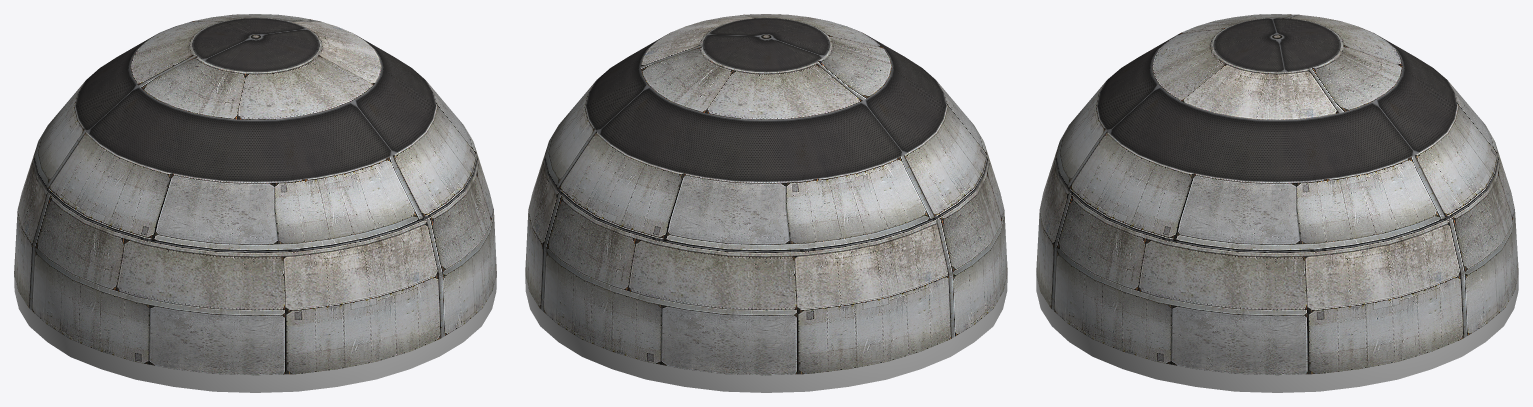
File: CylTube_03.fbx
3 renders of one model, left to right at view 1: azimuth 30°, elevation 25°; view 2: azimuth 150°, elevation 25°; view 3: azimuth 270°, elevation 25°, orthographic.
Visible parts, largest first — view 1: CylTube_03; view 2: CylTube_03; view 3: CylTube_03.
Part boxes in pixels (box(x1,y1,x2,y2)): CylTube_03: box(14, 14, 496, 392); CylTube_03: box(525, 14, 1007, 392); CylTube_03: box(1036, 14, 1518, 392).
Bounding box in the file's own units: 793 × 464 × 795.
